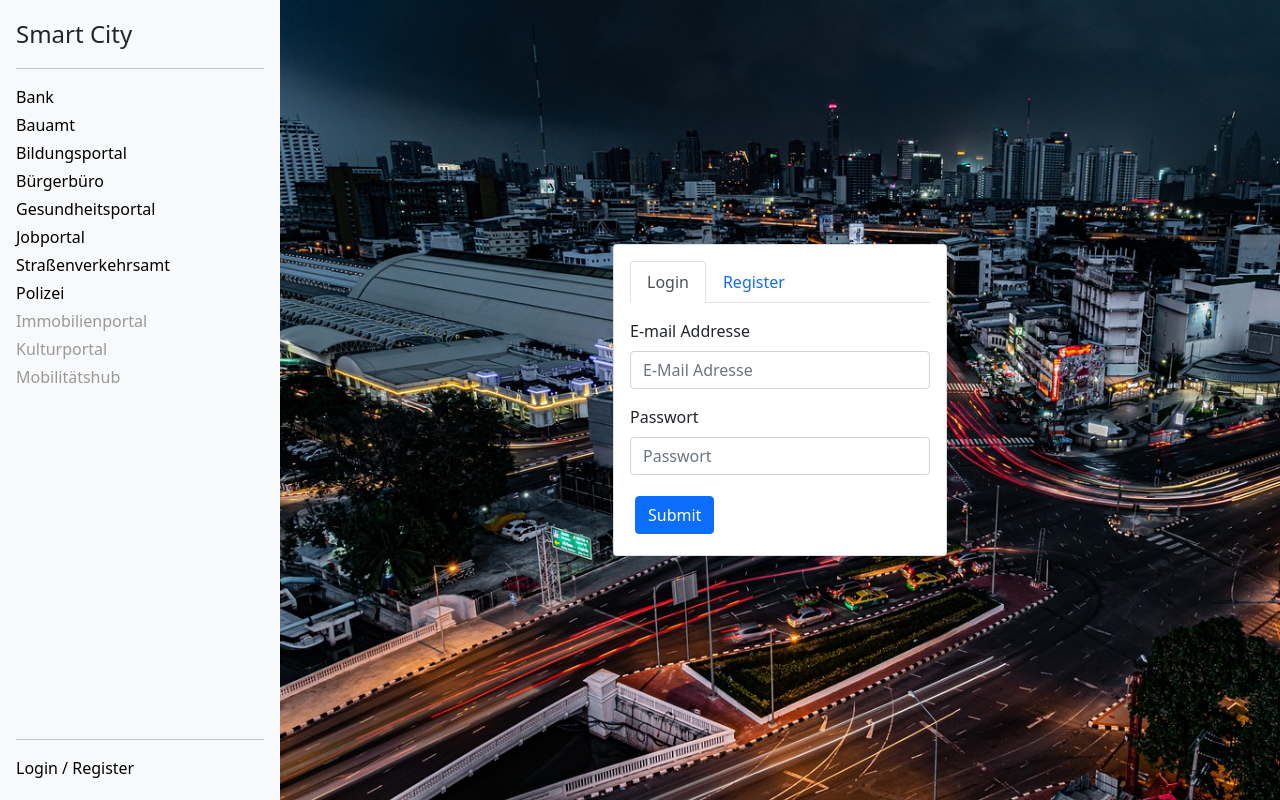
Test: show error message if the password input field is empty › displays an error message if the password input field is empty
This screenshot has width=1280, height=800.
Type "example.email@test.de" into the field with id "formBasicEmail".
click(780, 370); type("example.email@test.de")  # box [630,351,930,389]
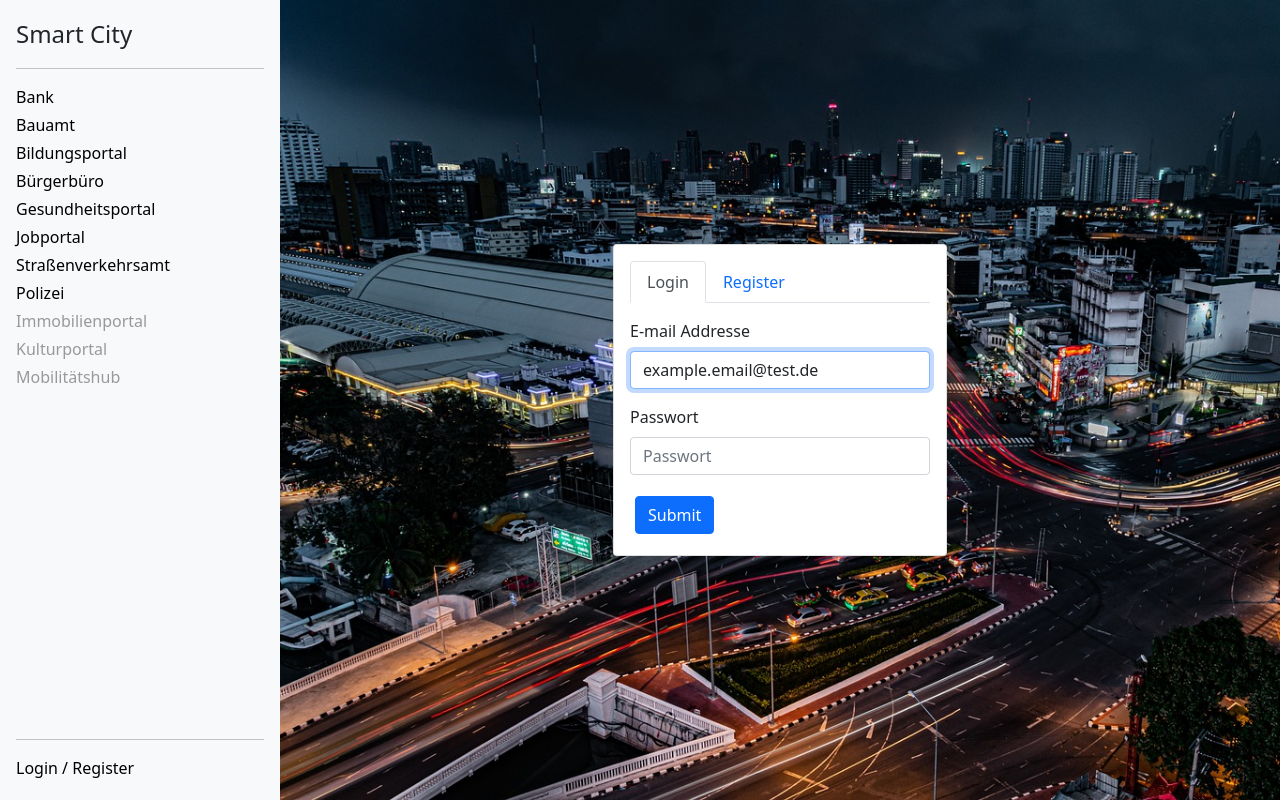
Click the button with id "submitLogin".
click(675, 515)  # box [635,496,714,534]
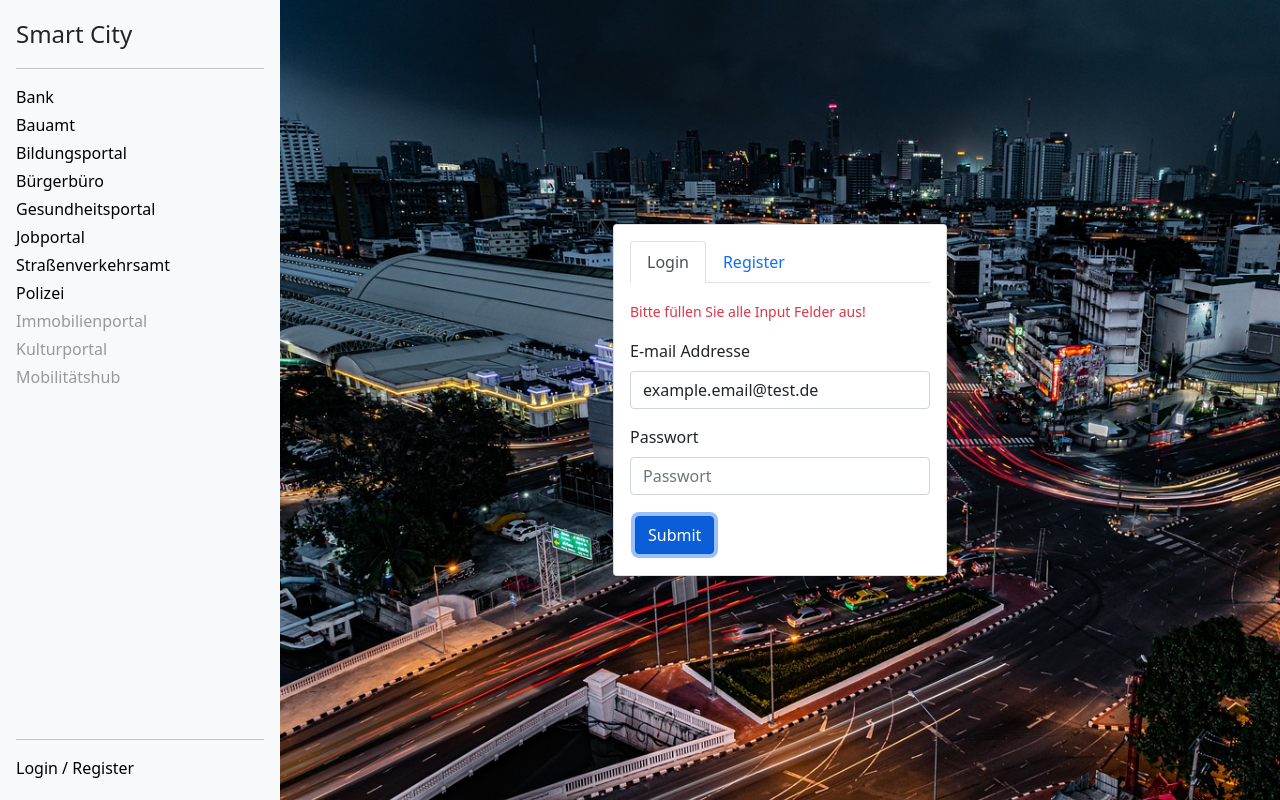
Now the text "Bitte füllen Sie alle Input Felder aus!" is shown, box [630,302,866,321]
